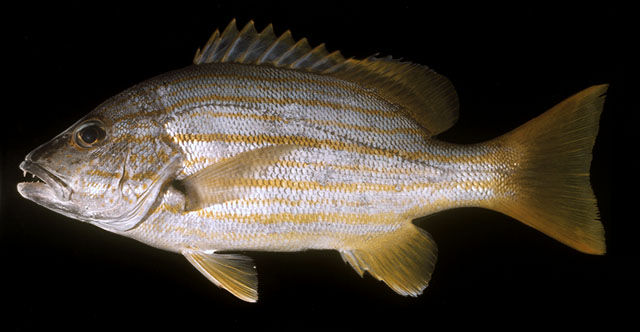fish: (15, 19, 609, 303)
